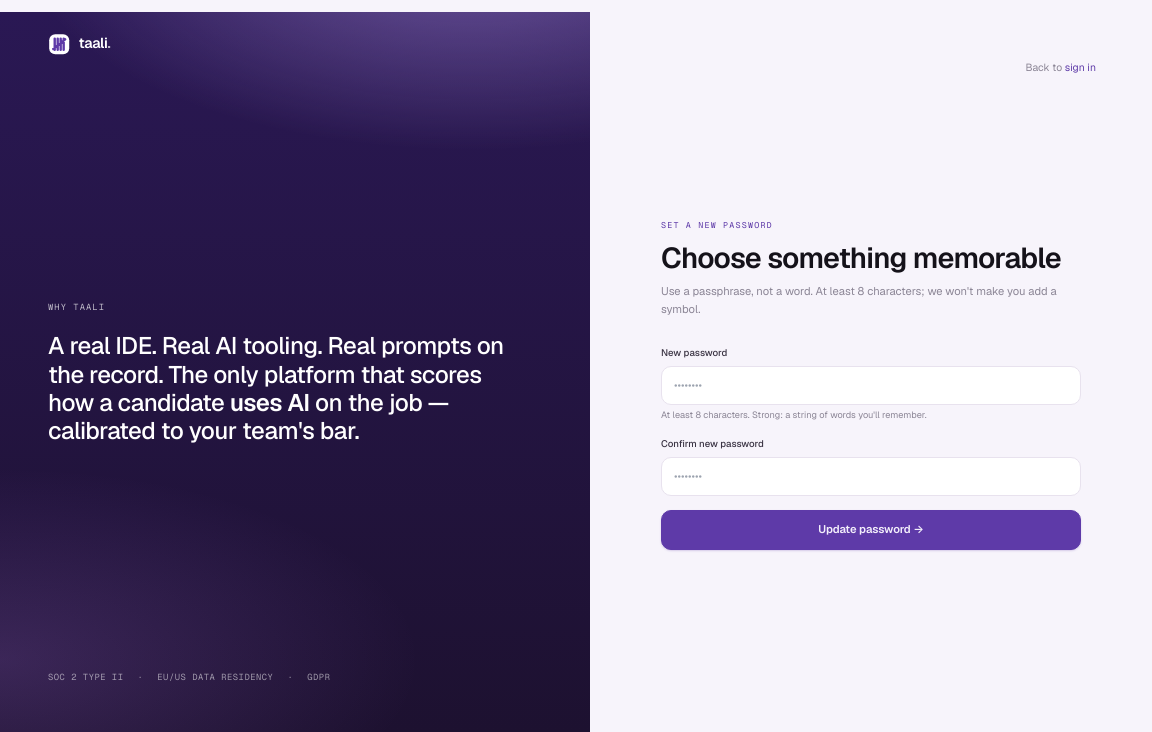
Auth page redesign › updates the password and shows the redesigned reset success state
Type "password123" into the password field with placeholder "••••••••" at (871, 386), box x1=661 y1=366 x2=1081 y2=405
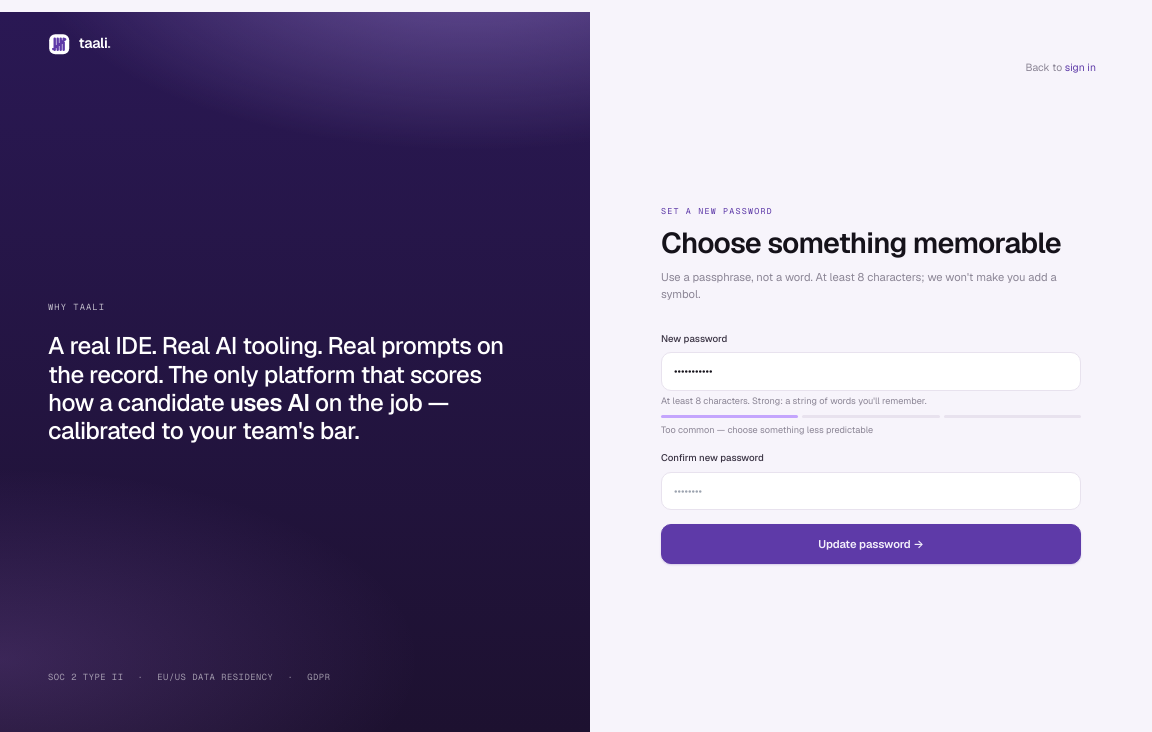
Type "password123" into the password field with placeholder "••••••••" at (871, 491), box x1=661 y1=472 x2=1081 y2=510
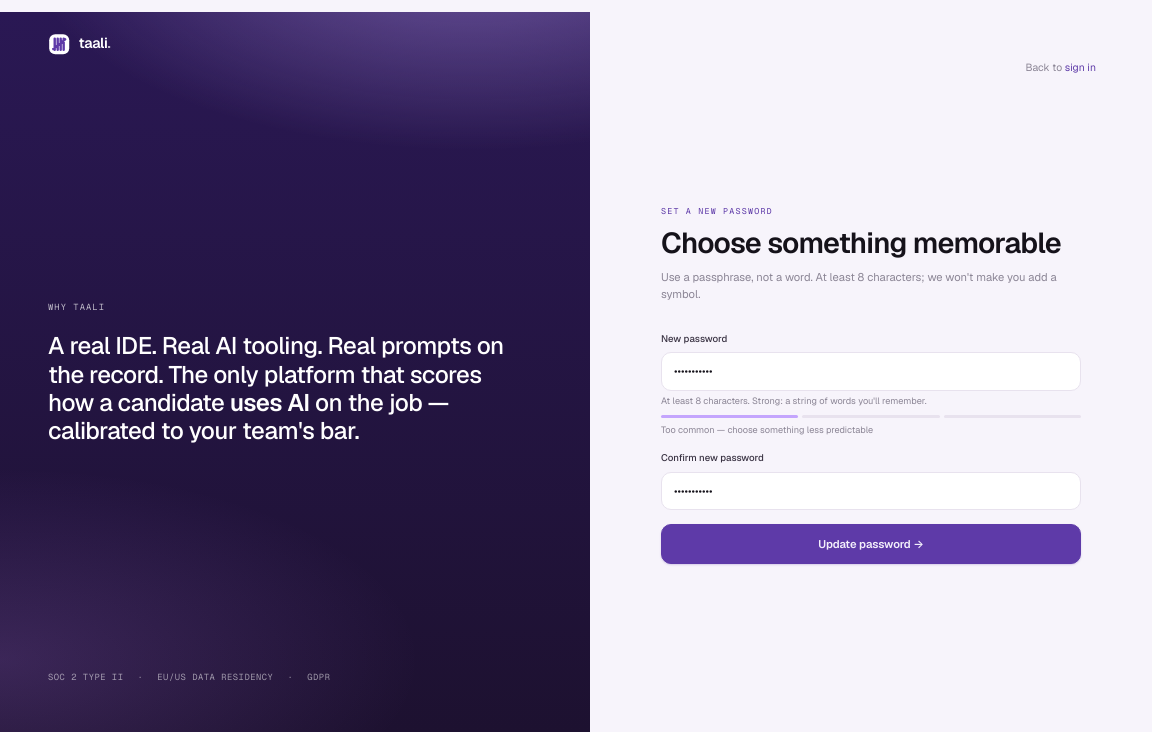
Click the button "Update password →" at (871, 544), box x1=661 y1=524 x2=1081 y2=564
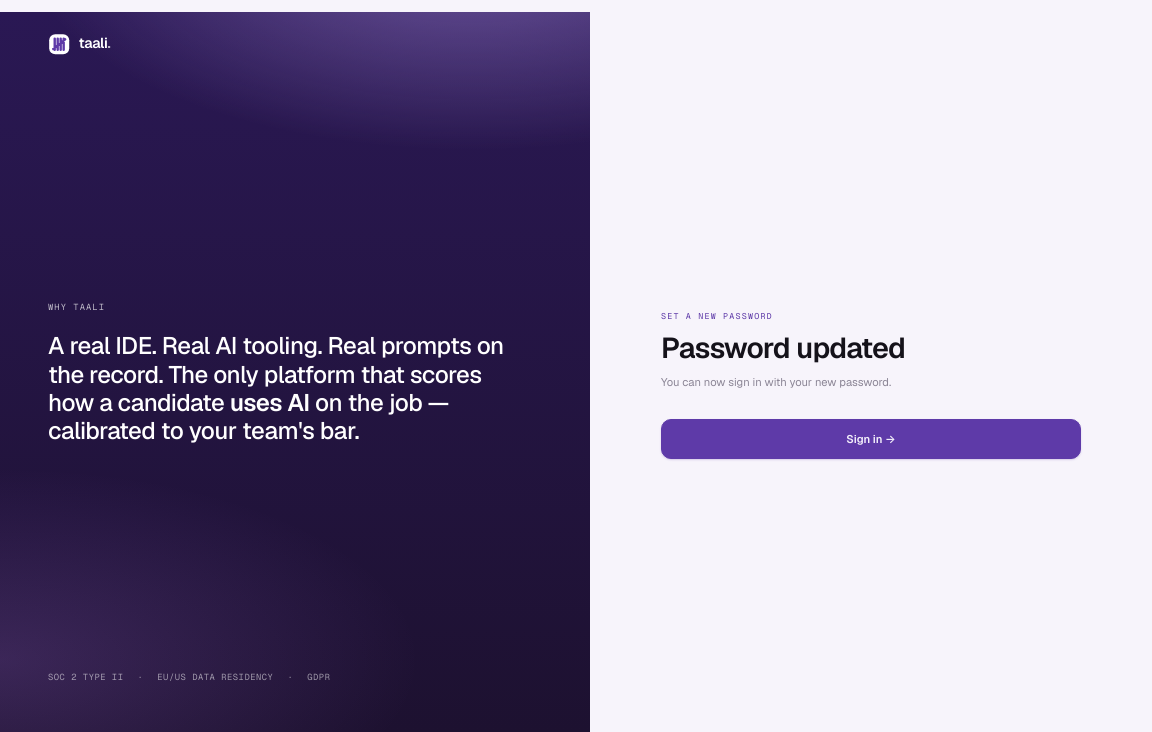
Expected: the heading "Password updated" is shown, x1=661 y1=329 x2=905 y2=366
